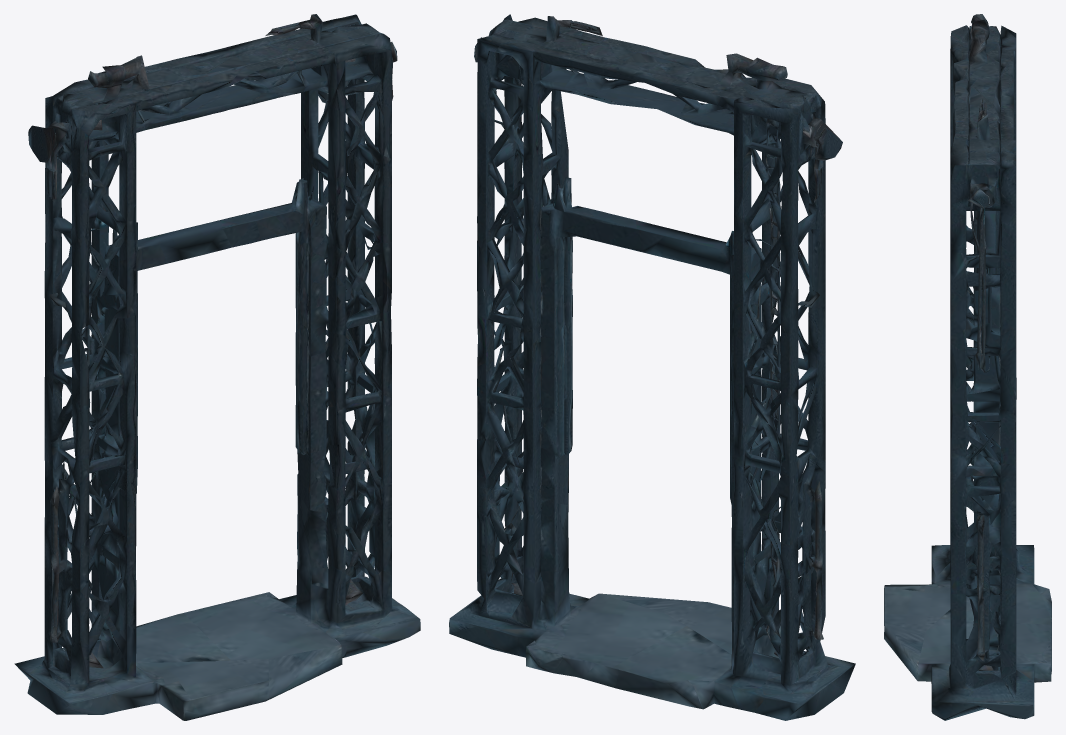
File: bsGate.321b8022.glb
The picture shows the model from 3 angles, left to right: view 1: azimuth 30°, elevation 25°; view 2: azimuth 150°, elevation 25°; view 3: azimuth 270°, elevation 25°; orthographic projection. The views are drawn at different scales.
Bounding box in the file's own units: 1.14 × 1.9 × 0.5051.
Materials: 1 (1 with a texture image).
